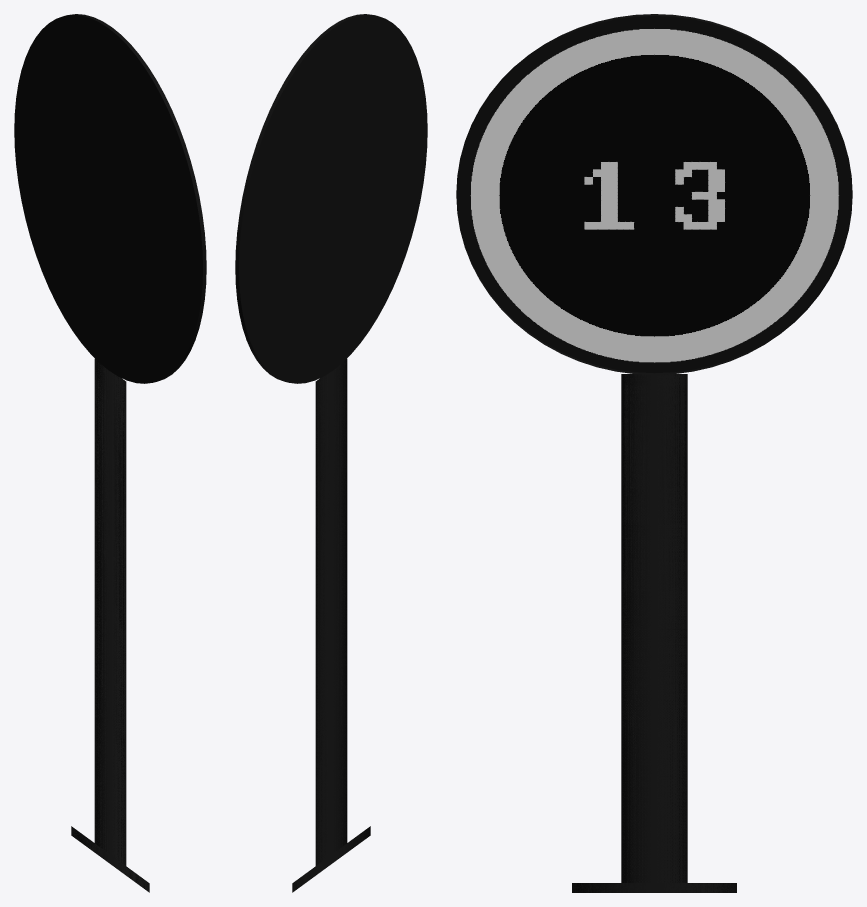
The model's file is tabela_13.dae.
3 renders of one model, left to right at view 1: azimuth 30°, elevation 25°; view 2: azimuth 150°, elevation 25°; view 3: azimuth 270°, elevation 25°, orthographic. The views are drawn at different scales.
Parts seen in each view (by area): view 1: B, D, C, G; view 2: B, D, C, G; view 3: A, D, B, C, G.
Boxes of the visible parts, left/top/right/bottom form: B: left=14, top=15, right=202, bottom=383; D: left=94, top=359, right=126, bottom=865; C: left=66, top=14, right=206, bottom=382; G: left=71, top=826, right=149, bottom=892; B: left=239, top=15, right=427, bottom=383; D: left=315, top=359, right=347, bottom=865; C: left=235, top=14, right=375, bottom=382; G: left=292, top=826, right=370, bottom=892; A: left=470, top=28, right=838, bottom=362; D: left=621, top=374, right=687, bottom=882; B: left=456, top=16, right=852, bottom=373; C: left=456, top=14, right=852, bottom=374; G: left=572, top=883, right=736, bottom=892.
Size of what is drawn, in the model's own units: 8 by 720 by 1760.
2 materials, 1 textured.
